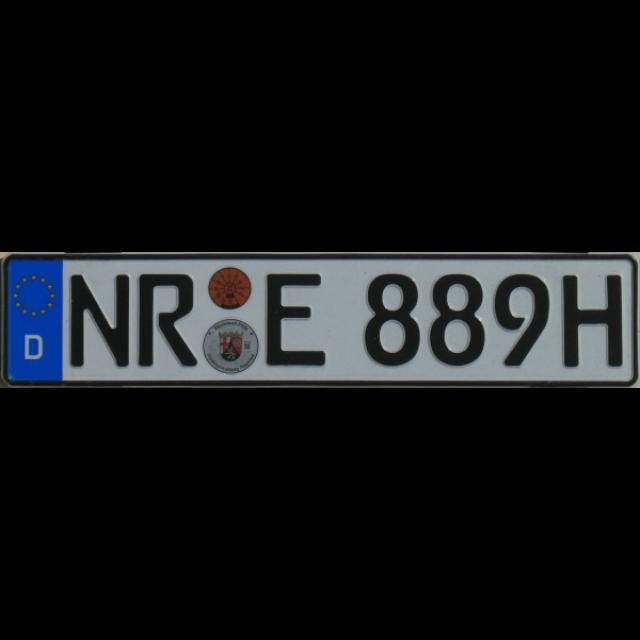license-plates: (3, 256, 640, 385)
